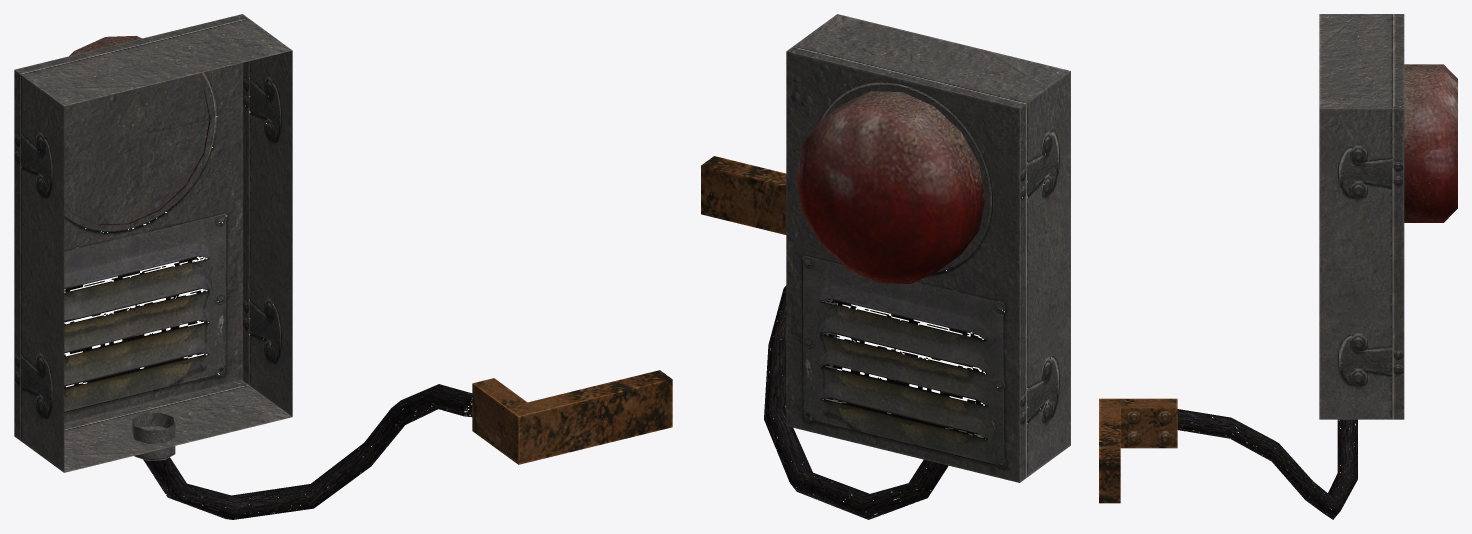
The model's file is factory_corridor_01_door_01_alarmbox.DAE.
3 renders of one model, left to right at view 1: azimuth 30°, elevation 25°; view 2: azimuth 150°, elevation 25°; view 3: azimuth 270°, elevation 25°, orthographic. The views are drawn at different scales.
Parts seen in each view (by area): view 1: Cylinder015; view 2: Cylinder015; view 3: Cylinder015.
Boxes of the visible parts, x1,y1,x2,y2 form: Cylinder015: [14, 14, 672, 519]; Cylinder015: [701, 14, 1070, 519]; Cylinder015: [1099, 14, 1457, 519].
Bounding box in the file's own units: 0.6317 × 0.5923 × 0.4831.
